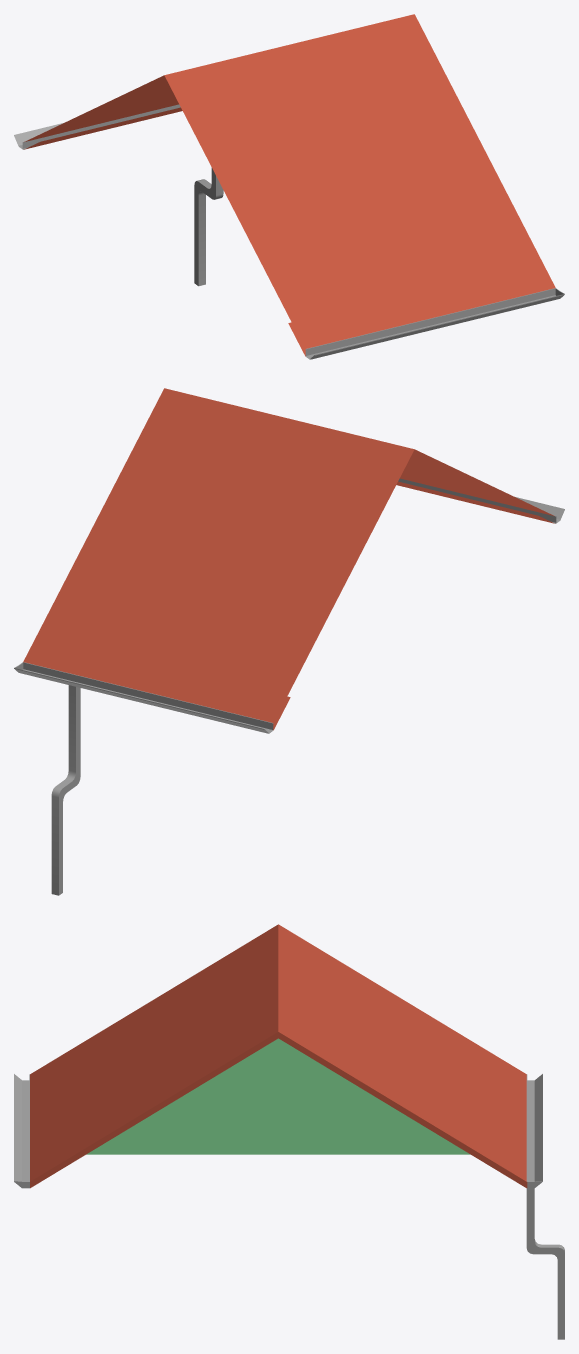
File: MESH_ENV(Telhado_3x6_Ponta).fbx
3 views of the same model, one above another, from view 1: azimuth 30°, elevation 25°; view 2: azimuth 150°, elevation 25°; view 3: azimuth 270°, elevation 25° (orthographic). The views are drawn at different scales.
Parts seen in each view (by area): view 1: MESH_ENV(Telhado_3x6_Ponta)_LOD0; view 2: MESH_ENV(Telhado_3x6_Ponta)_LOD0; view 3: MESH_ENV(Telhado_3x6_Ponta)_LOD0.
Boxes of the visible parts, <box> form: MESH_ENV(Telhado_3x6_Ponta)_LOD0: <box>14,14,564,359</box>; MESH_ENV(Telhado_3x6_Ponta)_LOD0: <box>14,388,564,895</box>; MESH_ENV(Telhado_3x6_Ponta)_LOD0: <box>14,924,564,1339</box>.
Size of the model in its own units: 350 by 500 by 758.
